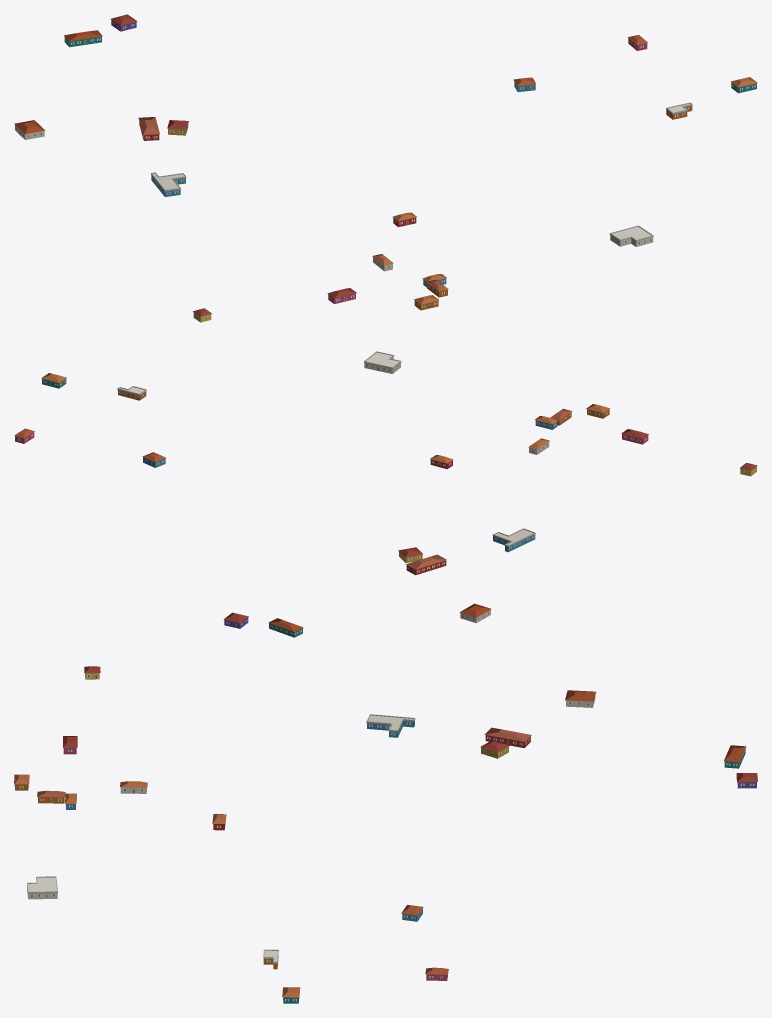
File: msb_sannicolas_15_20.glb
3 views of the same model, one above another, from view 1: azimuth 30°, elevation 25°; view 2: azimuth 150°, elevation 25°; view 3: azimuth 270°, elevation 25° (orthographic). The views are drawn at different scales.
Parts seen in each view (by area): view 1: msb_sannicolas_15_20_lod0; view 2: msb_sannicolas_15_20_lod0; view 3: msb_sannicolas_15_20_lod0.
Part boxes in pixels (x1=…): msb_sannicolas_15_20_lod0: x1=14, y1=14, x2=757, y2=322; msb_sannicolas_15_20_lod0: x1=14, y1=351, x2=757, y2=637; msb_sannicolas_15_20_lod0: x1=14, y1=666, x2=757, y2=1003.
Size of what is drawn, in the model's own units: 384 by 18.15 by 357.
3 materials, 1 textured.
